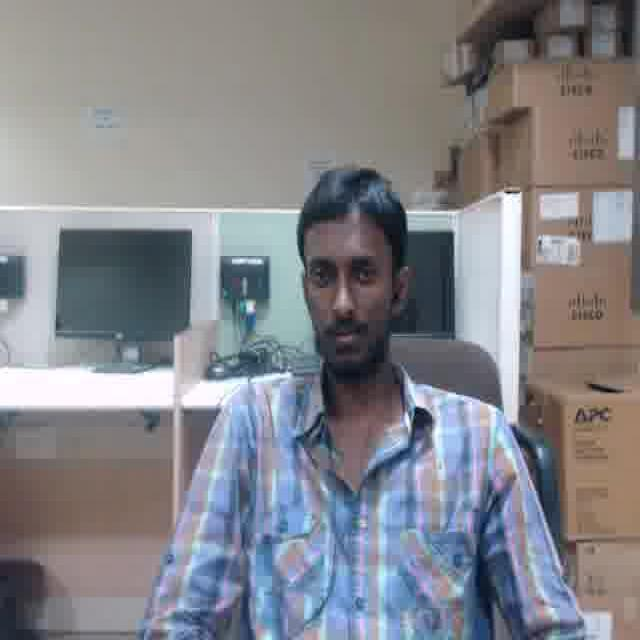Engaged: (302, 219, 388, 364)
